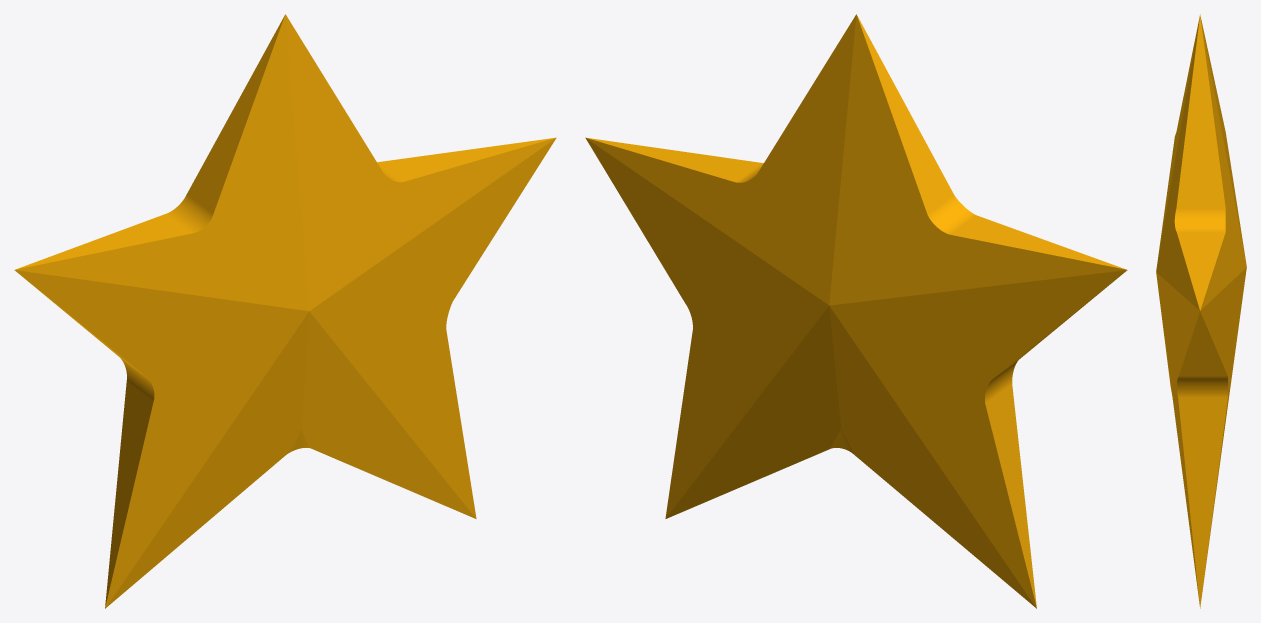
Rendered from star.glb.
The picture shows the model from 3 angles, left to right: view 1: azimuth 30°, elevation 25°; view 2: azimuth 150°, elevation 25°; view 3: azimuth 270°, elevation 25°; orthographic projection. The views are drawn at different scales.
Visible parts, largest first — view 1: star; view 2: star; view 3: star.
Part boxes in pixels (<box>): star: <box>14,14,556,608</box>; star: <box>585,14,1127,608</box>; star: <box>1156,14,1246,608</box>.
Size of the model in its own units: 1.21 by 1.17 by 0.1898.
